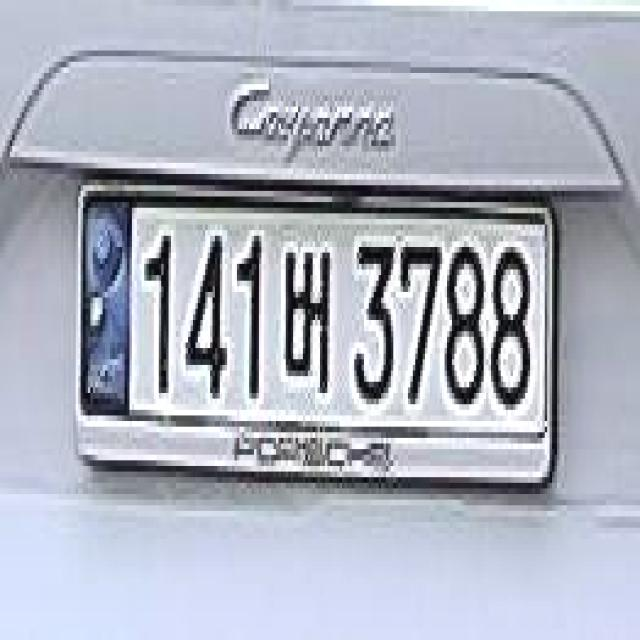illegal_plate: (77, 175, 556, 507)
